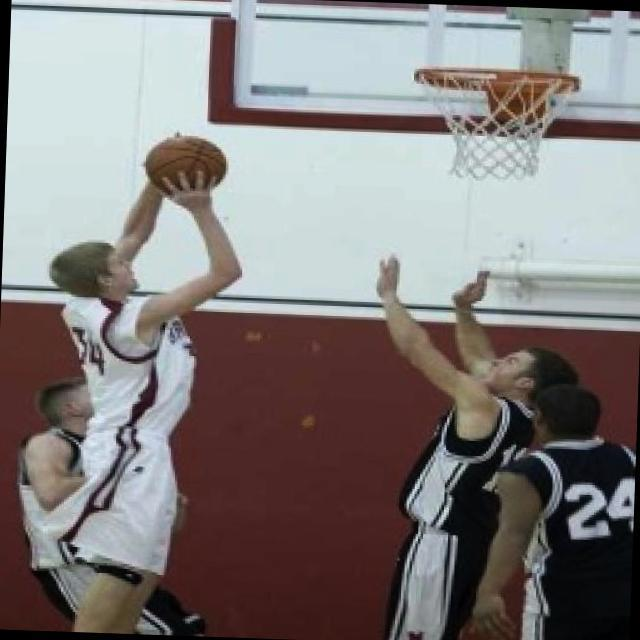ball: (145, 122, 230, 198)
